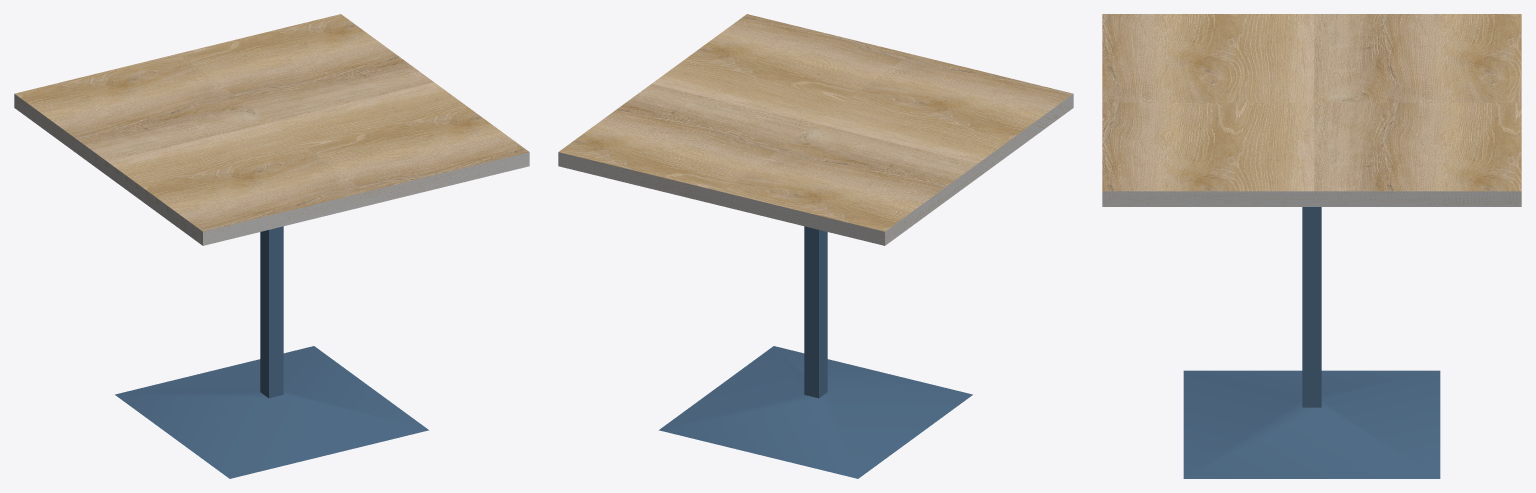
File: cafe_table.dae
3 views of the same model, side by side, from view 1: azimuth 30°, elevation 25°; view 2: azimuth 150°, elevation 25°; view 3: azimuth 270°, elevation 25° (orthographic). The views are drawn at different scales.
Parts seen in each view (by area): view 1: Top_Square (×2), SketchUp; view 2: Top_Square (×2), SketchUp; view 3: Top_Square (×2), SketchUp.
Boxes of the visible parts, x1,y1,x2,y2 form: Top_Square (×2): [14, 14, 529, 245]; SketchUp: [115, 226, 428, 478]; Top_Square (×2): [558, 14, 1073, 245]; SketchUp: [659, 226, 972, 478]; Top_Square (×2): [1102, 14, 1521, 206]; SketchUp: [1183, 207, 1440, 478].
Bounding box in the file's own units: 36 × 36 × 30.5.
